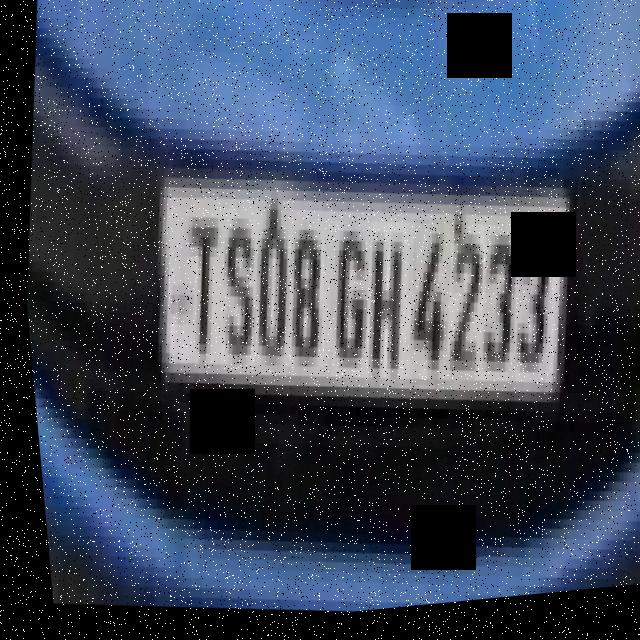0: (235, 210, 298, 377)
3: (495, 231, 558, 384), (463, 239, 522, 384)
4: (389, 224, 458, 396)
8: (269, 224, 335, 380)
G: (309, 206, 379, 378)
H: (349, 225, 414, 393)
S: (200, 206, 265, 377)
T: (165, 209, 227, 366)
